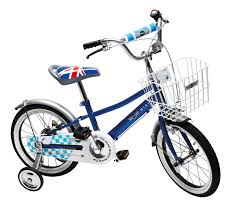bicycle: (5, 8, 224, 204)
